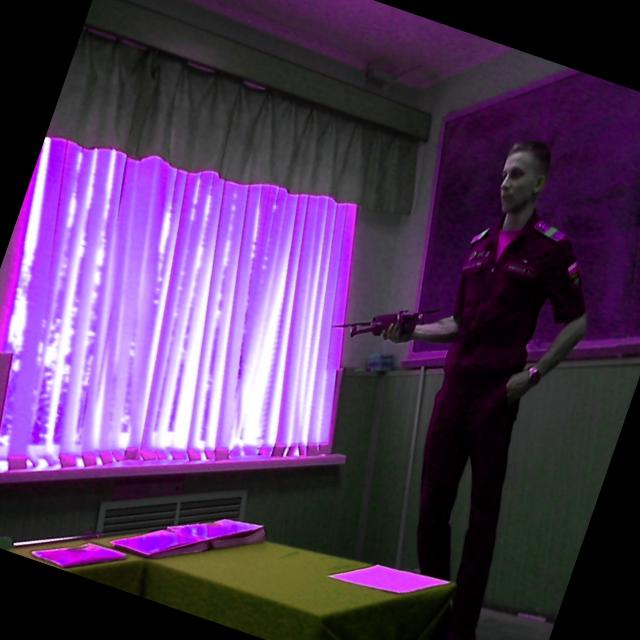drone: (324, 276, 466, 374)
